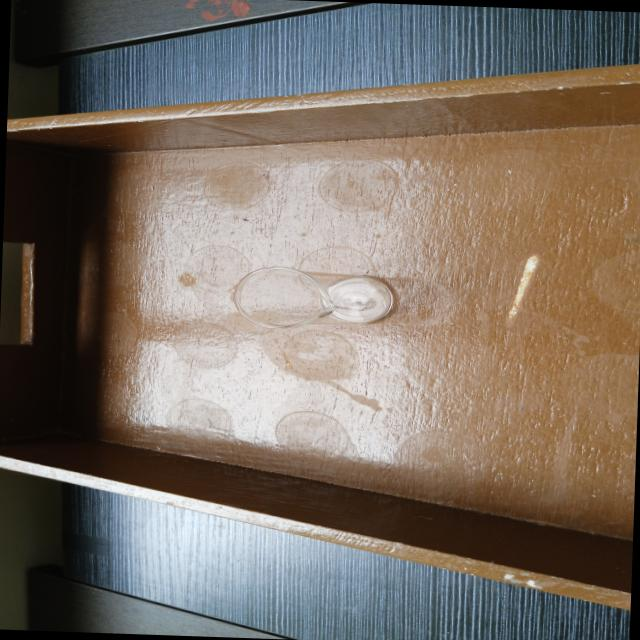beaker: (224, 259, 404, 337)
